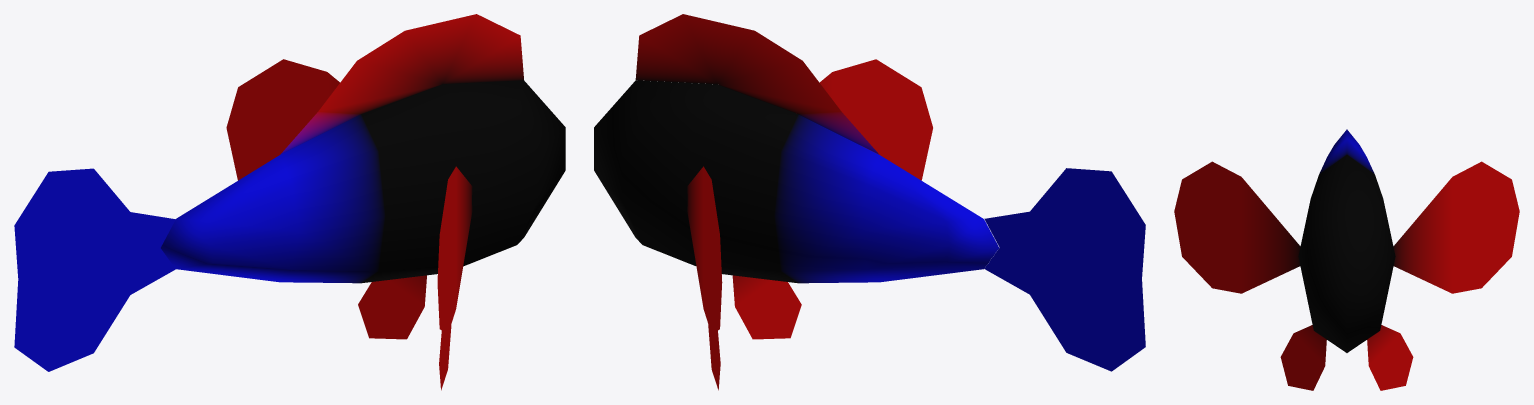
The model's file is Fish.fbx.
3 views of the same model, side by side, from view 1: azimuth 30°, elevation 25°; view 2: azimuth 150°, elevation 25°; view 3: azimuth 270°, elevation 25° (orthographic). The views are drawn at different scales.
Parts seen in each view (by area): view 1: Fish; view 2: Fish; view 3: Fish.
Part boxes in pixels (box(x1,y1,x2,y2)): Fish: box(14, 14, 565, 390); Fish: box(594, 14, 1145, 390); Fish: box(1174, 129, 1519, 390).
Size of the model in its own units: 116 by 66.97 by 76.71.
